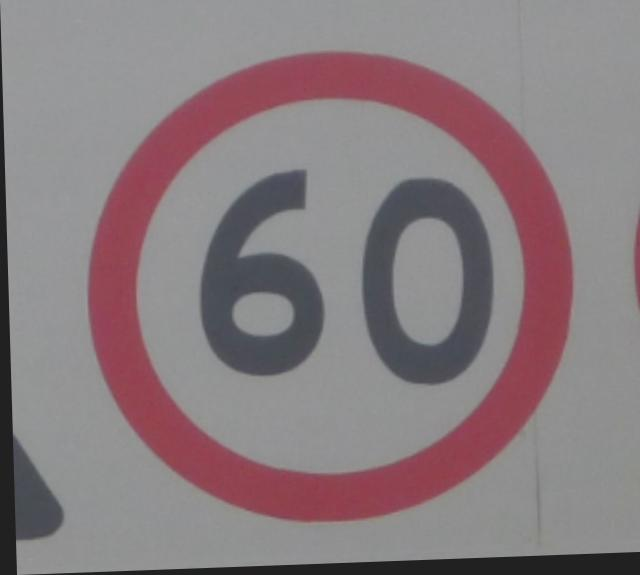limit60: (66, 36, 592, 539)
